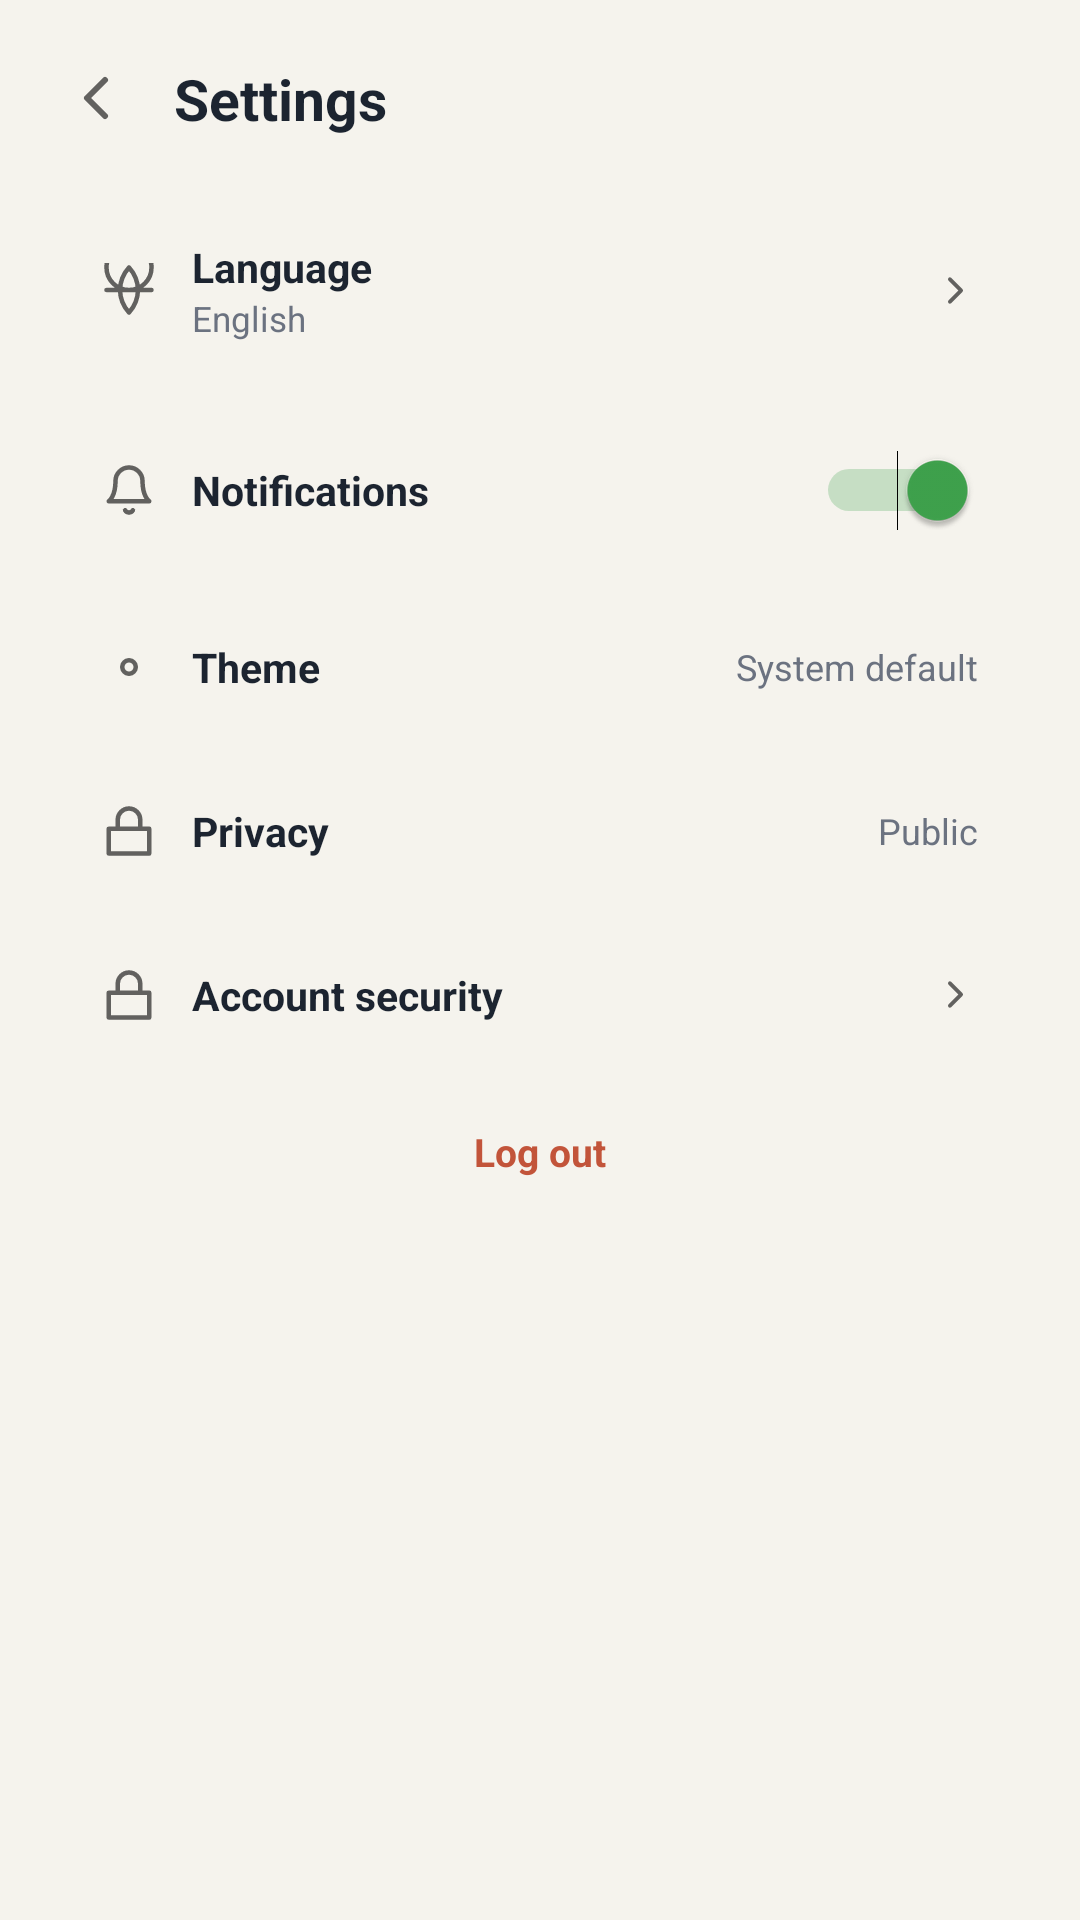

Locate icon controls on the screen. Image size 1080w x 1920h, boxes as (x1, y1, x2, y2).
back: (84, 77, 108, 119)
bell: (106, 465, 152, 515)
chevron right: (948, 277, 963, 304), (948, 981, 963, 1008)
lock: (106, 806, 152, 856), (106, 970, 152, 1020)
